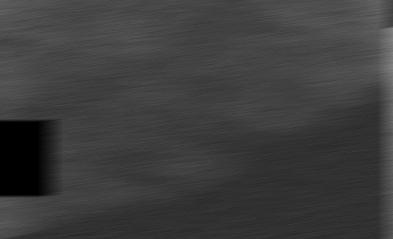Airbag: (0, 0, 393, 238), (387, 0, 393, 239)
